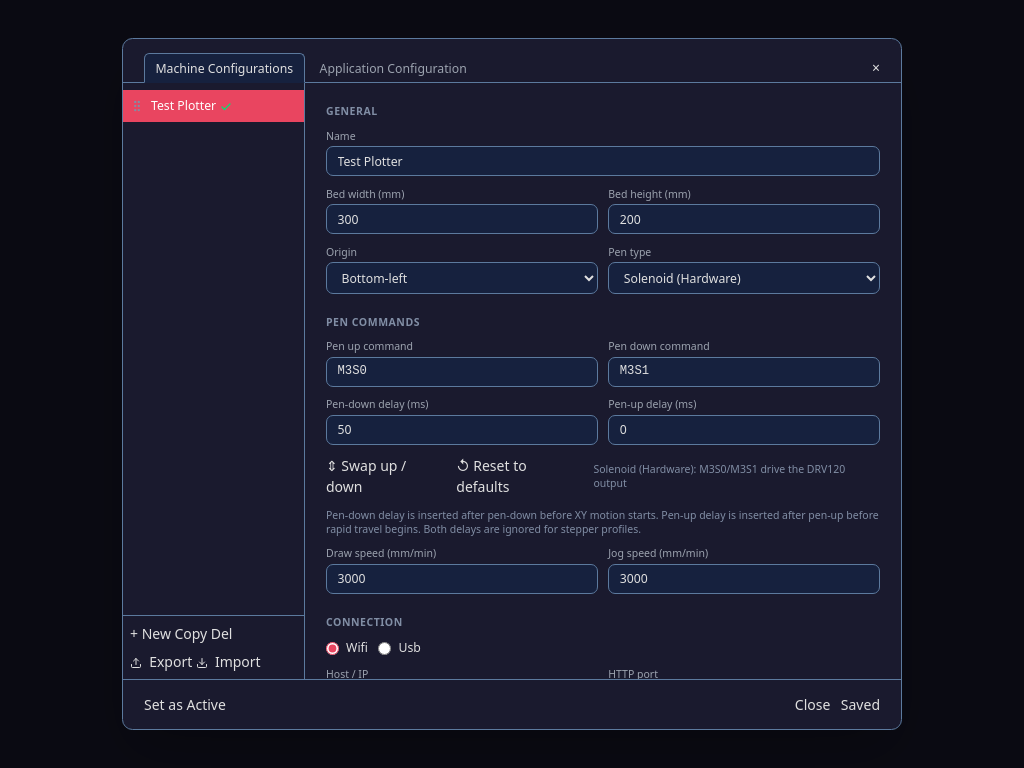
MachineConfigDialog › pen type change › switching from solenoid to servo auto-populates servo defaults
Expected: the field showing "M3S0" below "Pen up command" is shown, [326,357,598,387]
// Change pen type — commands match current defaults so no confirm needed
Select "Servo" in the dropdown showing "Solenoid (Hardware)" below "Pen type": (744, 278) [608,262,880,294]
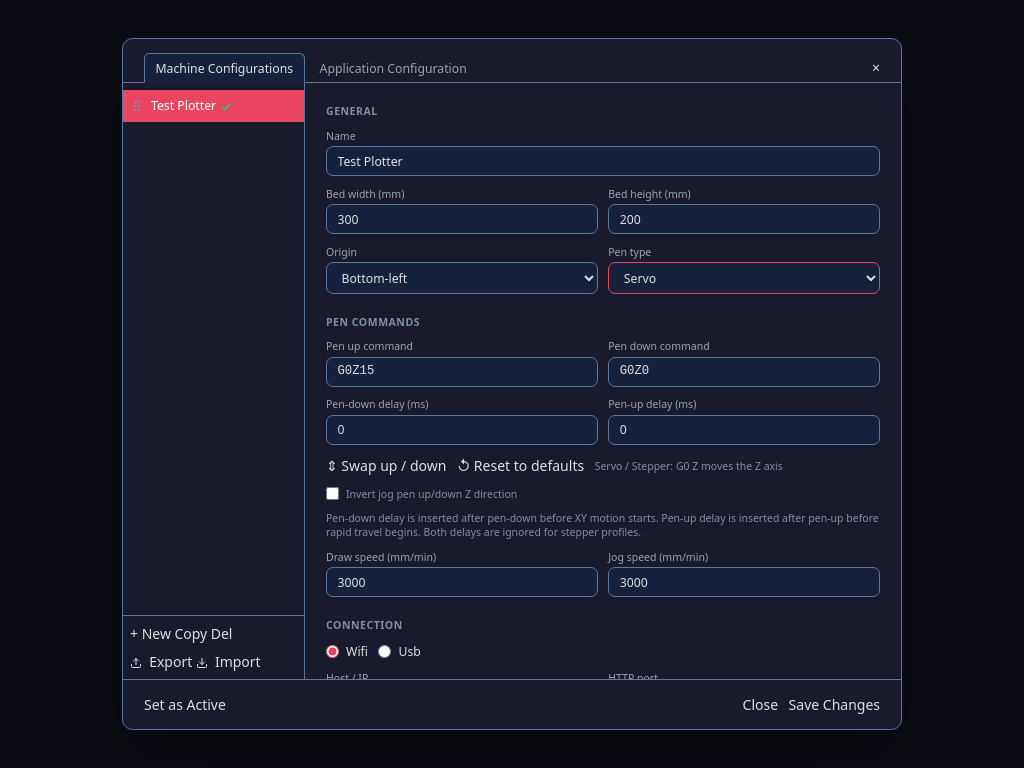
Now the field showing "G0Z15" below "Pen up command" is shown, box [326,357,598,387]
Now the field showing "G0Z0" below "Pen down command" is shown, box [608,357,880,387]
